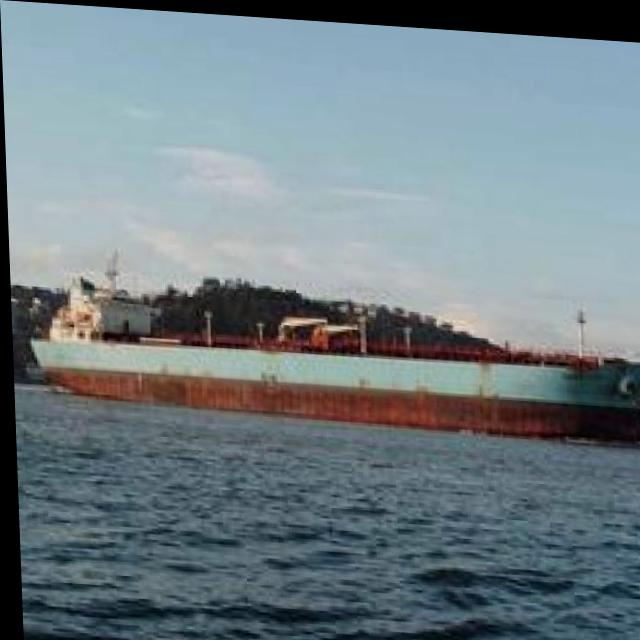ship2: (26, 247, 640, 433)
